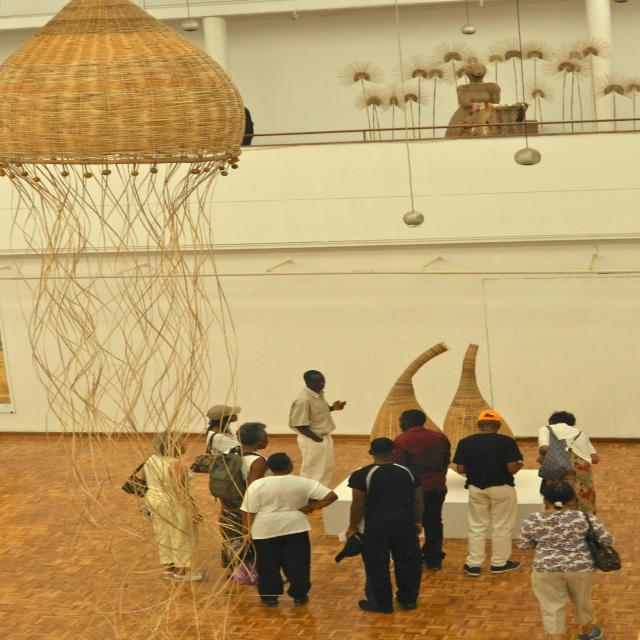body: (517, 480, 621, 640), (335, 436, 426, 614), (240, 452, 339, 606), (451, 408, 524, 576), (135, 432, 206, 584), (208, 422, 272, 582), (390, 409, 451, 571), (189, 404, 243, 538), (288, 370, 348, 487), (538, 410, 602, 514)
